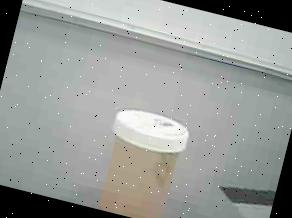Bottle B: (85, 98, 204, 218)
